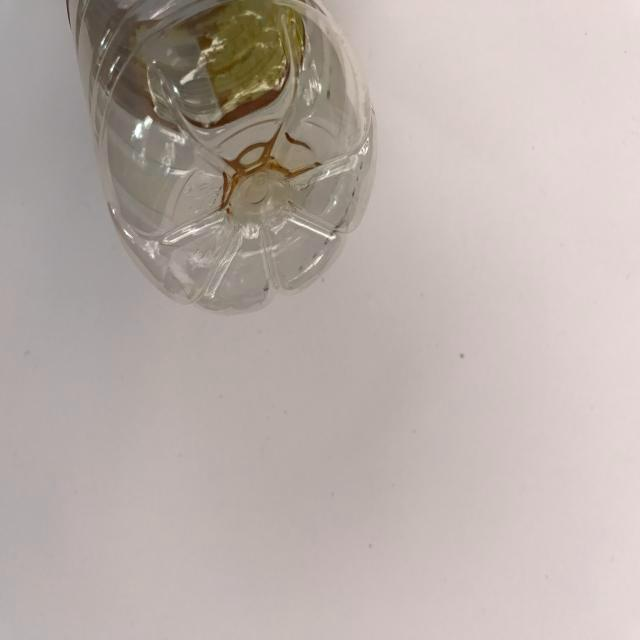plastic: (52, 0, 424, 346)
